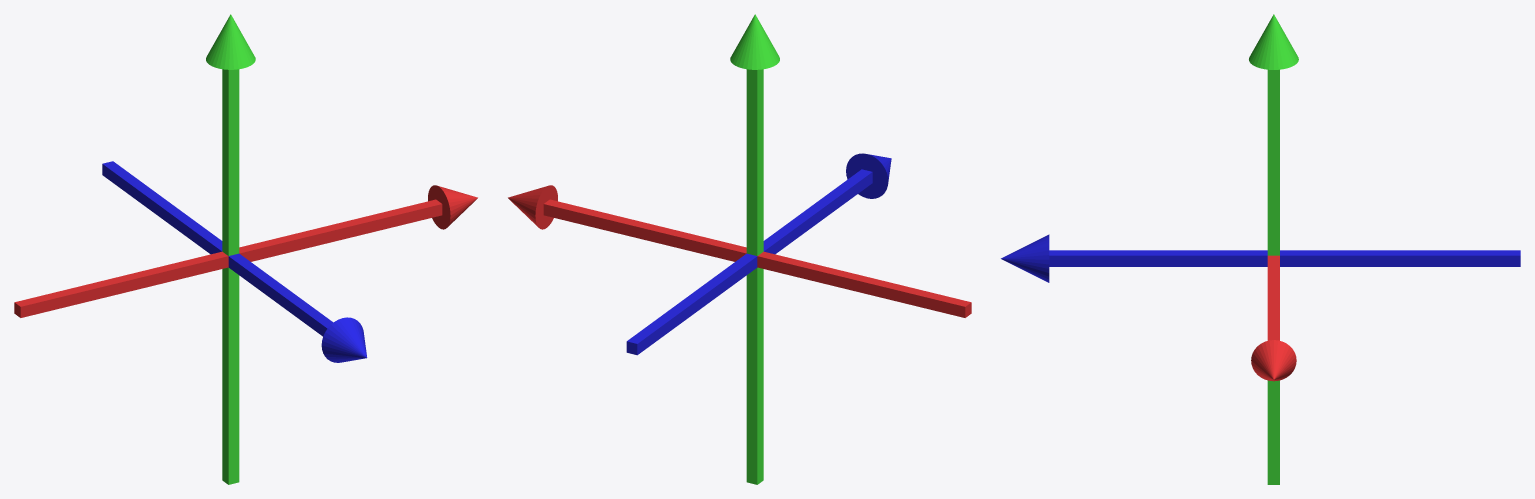
Rendered from axes.glb.
The picture shows the model from 3 angles, left to right: view 1: azimuth 30°, elevation 25°; view 2: azimuth 150°, elevation 25°; view 3: azimuth 270°, elevation 25°; orthographic projection.
Visible parts, largest first — view 1: y, x, z; view 2: y, x, z; view 3: z, y, x.
Boxes of the visible parts, x1=… form: y: x1=206, y1=14, x2=255, y2=484; x: x1=14, y1=185, x2=477, y2=317; z: x1=102, y1=161, x2=367, y2=362; y: x1=730, y1=14, x2=779, y2=484; x: x1=508, y1=185, x2=971, y2=317; z: x1=626, y1=153, x2=891, y2=355; z: x1=1001, y1=234, x2=1520, y2=282; y: x1=1249, y1=14, x2=1298, y2=484; x: x1=1251, y1=255, x2=1296, y2=381.
Size of the model in its own units: 1.9 by 1.84 by 1.85.
